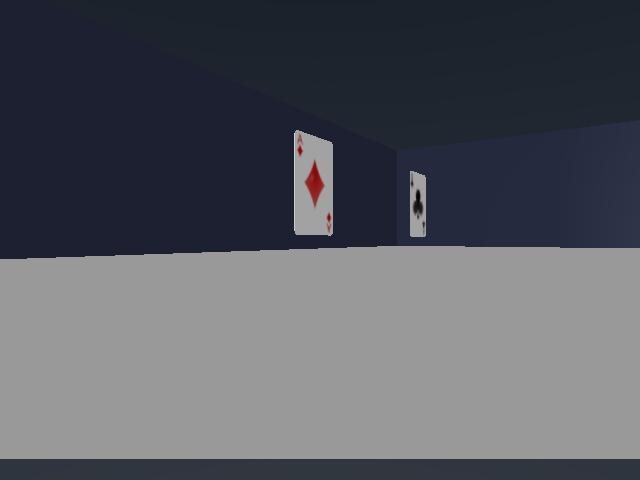club: (410, 171, 425, 236)
diamond: (294, 131, 333, 234)
